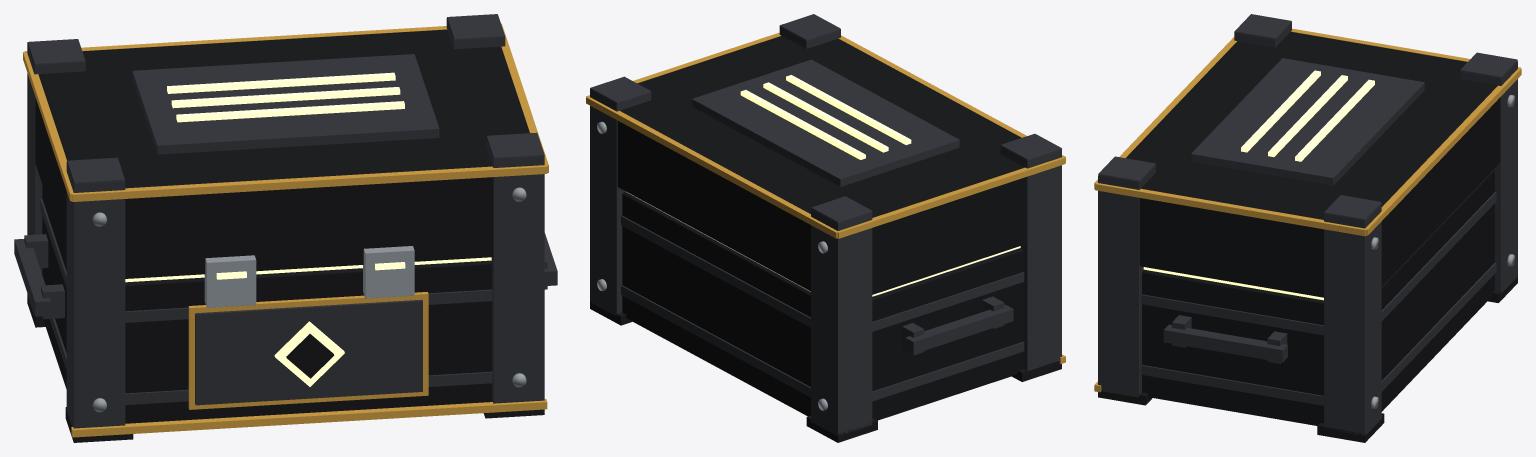
The model's file is cache_2.fbx.
The picture shows the model from 3 angles, left to right: view 1: azimuth 30°, elevation 25°; view 2: azimuth 150°, elevation 25°; view 3: azimuth 270°, elevation 25°; orthographic projection. The views are drawn at different scales.
Visible parts, largest first — view 1: Cube.059, Cube.057, Cube.060, Cube.080, Cube.064, Cube.066, Cube.092, Cube.088, Cube.081, Cube.065, Cube.084, Cube.086 (+15 smaller); view 2: Cube.059, Cube.057, Cube.060, Cube.065, Cube.064, Cube.067, Cube.068, Cube.069, Cube.089, Cube.090, Cube.076, Cube.066 (+8 smaller); view 3: Cube.059, Cube.057, Cube.060, Cube.067, Cube.066, Cube.065, Cube.069, Cube.068, Cube.091, Cube.079, Cube.089, Cube.064 (+8 smaller).
Part boxes in pixels (x1,y1,x2,y2): Cube.059: [35, 29, 529, 278]; Cube.057: [42, 185, 492, 423]; Cube.060: [132, 54, 439, 154]; Cube.080: [195, 299, 422, 405]; Cube.064: [66, 157, 125, 428]; Cube.066: [486, 132, 544, 403]; Cube.092: [71, 399, 547, 437]; Cube.088: [72, 164, 547, 201]; Cube.081: [188, 292, 428, 409]; Cube.065: [27, 39, 85, 315]; Cube.084: [204, 255, 256, 307]; Cube.086: [363, 246, 414, 298]; Cube.059: [617, 36, 1026, 294]; Cube.057: [622, 191, 1023, 420]; Cube.060: [692, 59, 959, 186]; Cube.065: [811, 196, 872, 435]; Cube.064: [1000, 133, 1061, 371]; Cube.067: [590, 76, 651, 316]; Cube.068: [621, 285, 1024, 401]; Cube.069: [621, 215, 1024, 331]; Cube.089: [586, 96, 840, 238]; Cube.090: [837, 157, 1065, 238]; Cube.076: [905, 304, 1013, 354]; Cube.066: [779, 14, 840, 48]; Cube.059: [1126, 32, 1500, 297]; Cube.057: [1142, 169, 1494, 425]; Cube.060: [1191, 58, 1424, 185]; Cube.067: [1324, 195, 1381, 435]; Cube.066: [1098, 156, 1155, 397]; Cube.065: [1460, 52, 1517, 293]; Cube.069: [1141, 192, 1496, 335]; Cube.068: [1141, 262, 1496, 405]; Cube.091: [1095, 182, 1365, 236]; Cube.079: [1163, 324, 1287, 362]; Cube.089: [1362, 68, 1521, 235]; Cube.064: [1234, 14, 1291, 47].
Bounding box in the file's own units: 57.61 × 29.1 × 49.87.
